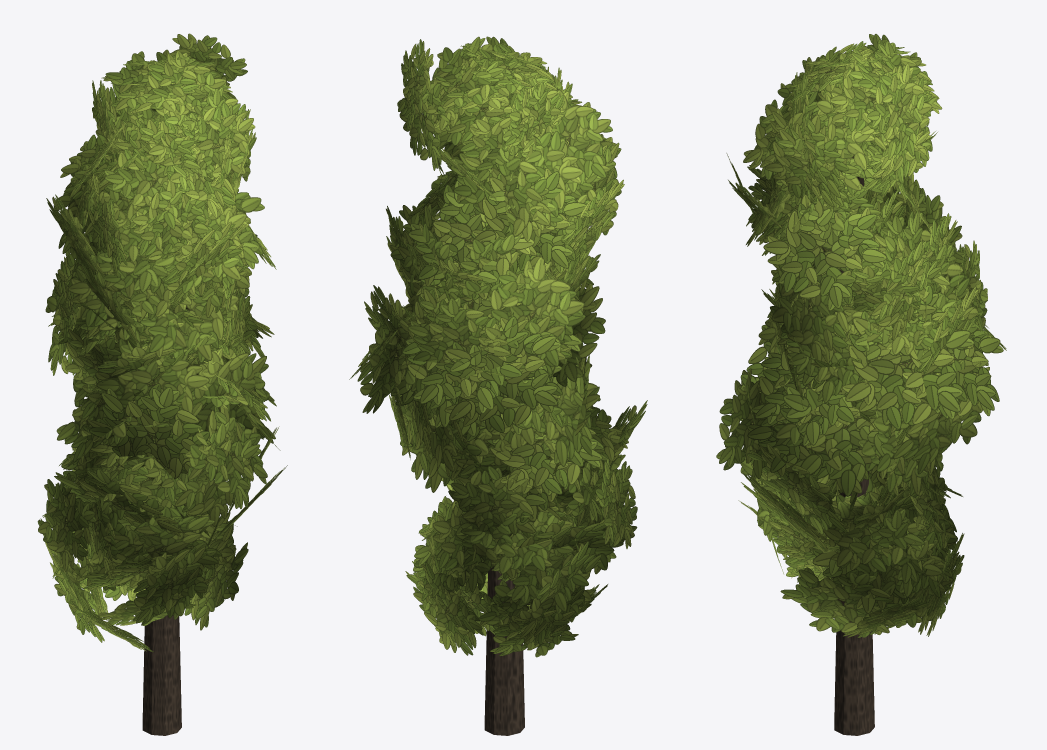
File: pioppo_2.glb
3 views of the same model, side by side, from view 1: azimuth 30°, elevation 25°; view 2: azimuth 150°, elevation 25°; view 3: azimuth 270°, elevation 25° (orthographic). The views are drawn at different scales.
Parts seen in each view (by area): view 1: pioppo_2; view 2: pioppo_2; view 3: pioppo_2.
Part boxes in pixels (x1=…): pioppo_2: x1=37, y1=33, x2=287, y2=735; pioppo_2: x1=349, y1=36, x2=647, y2=735; pioppo_2: x1=716, y1=34, x2=1006, y2=735.
Size of the model in its own units: 7.98 by 19.42 by 8.39.
Materials: 2 (2 with a texture image).
